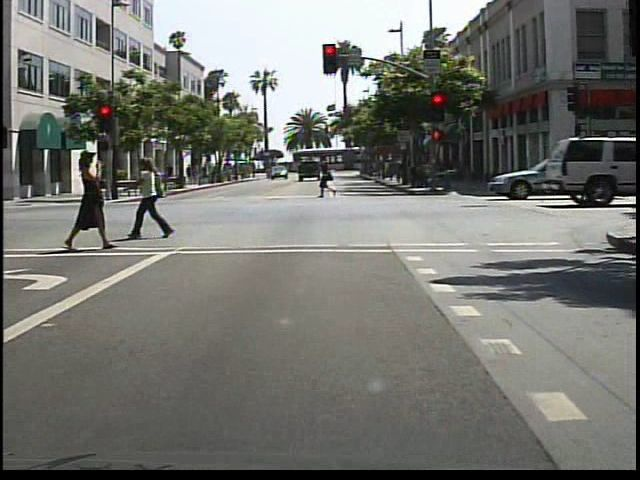person: (63, 147, 114, 254), (134, 155, 173, 239), (316, 152, 341, 199), (3, 149, 11, 260), (163, 161, 177, 187)
